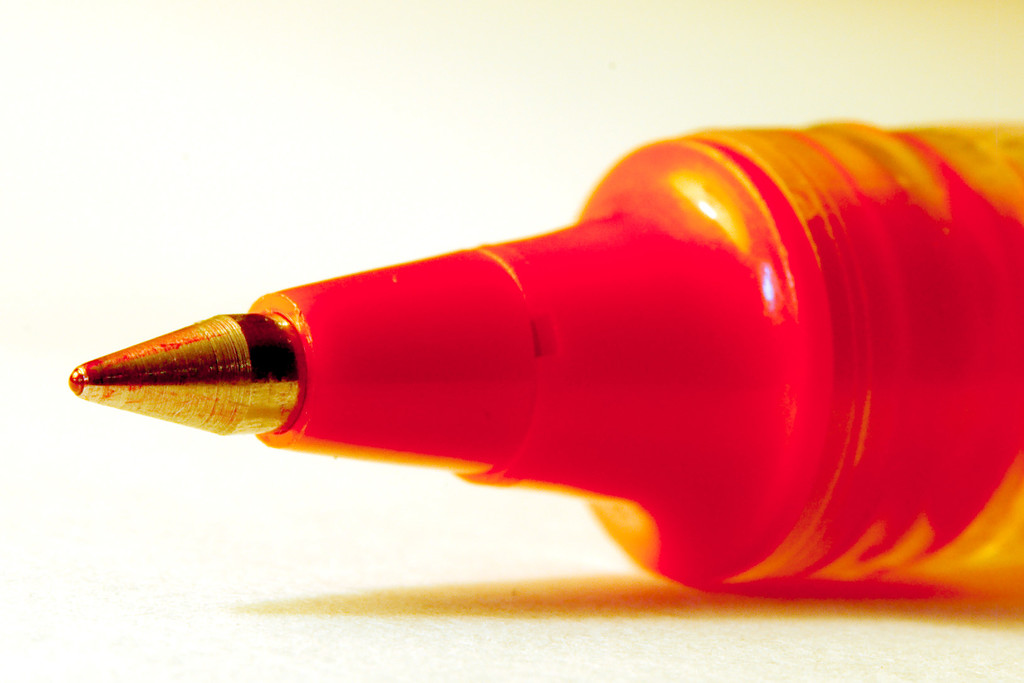Pen: (66, 106, 1023, 597)
